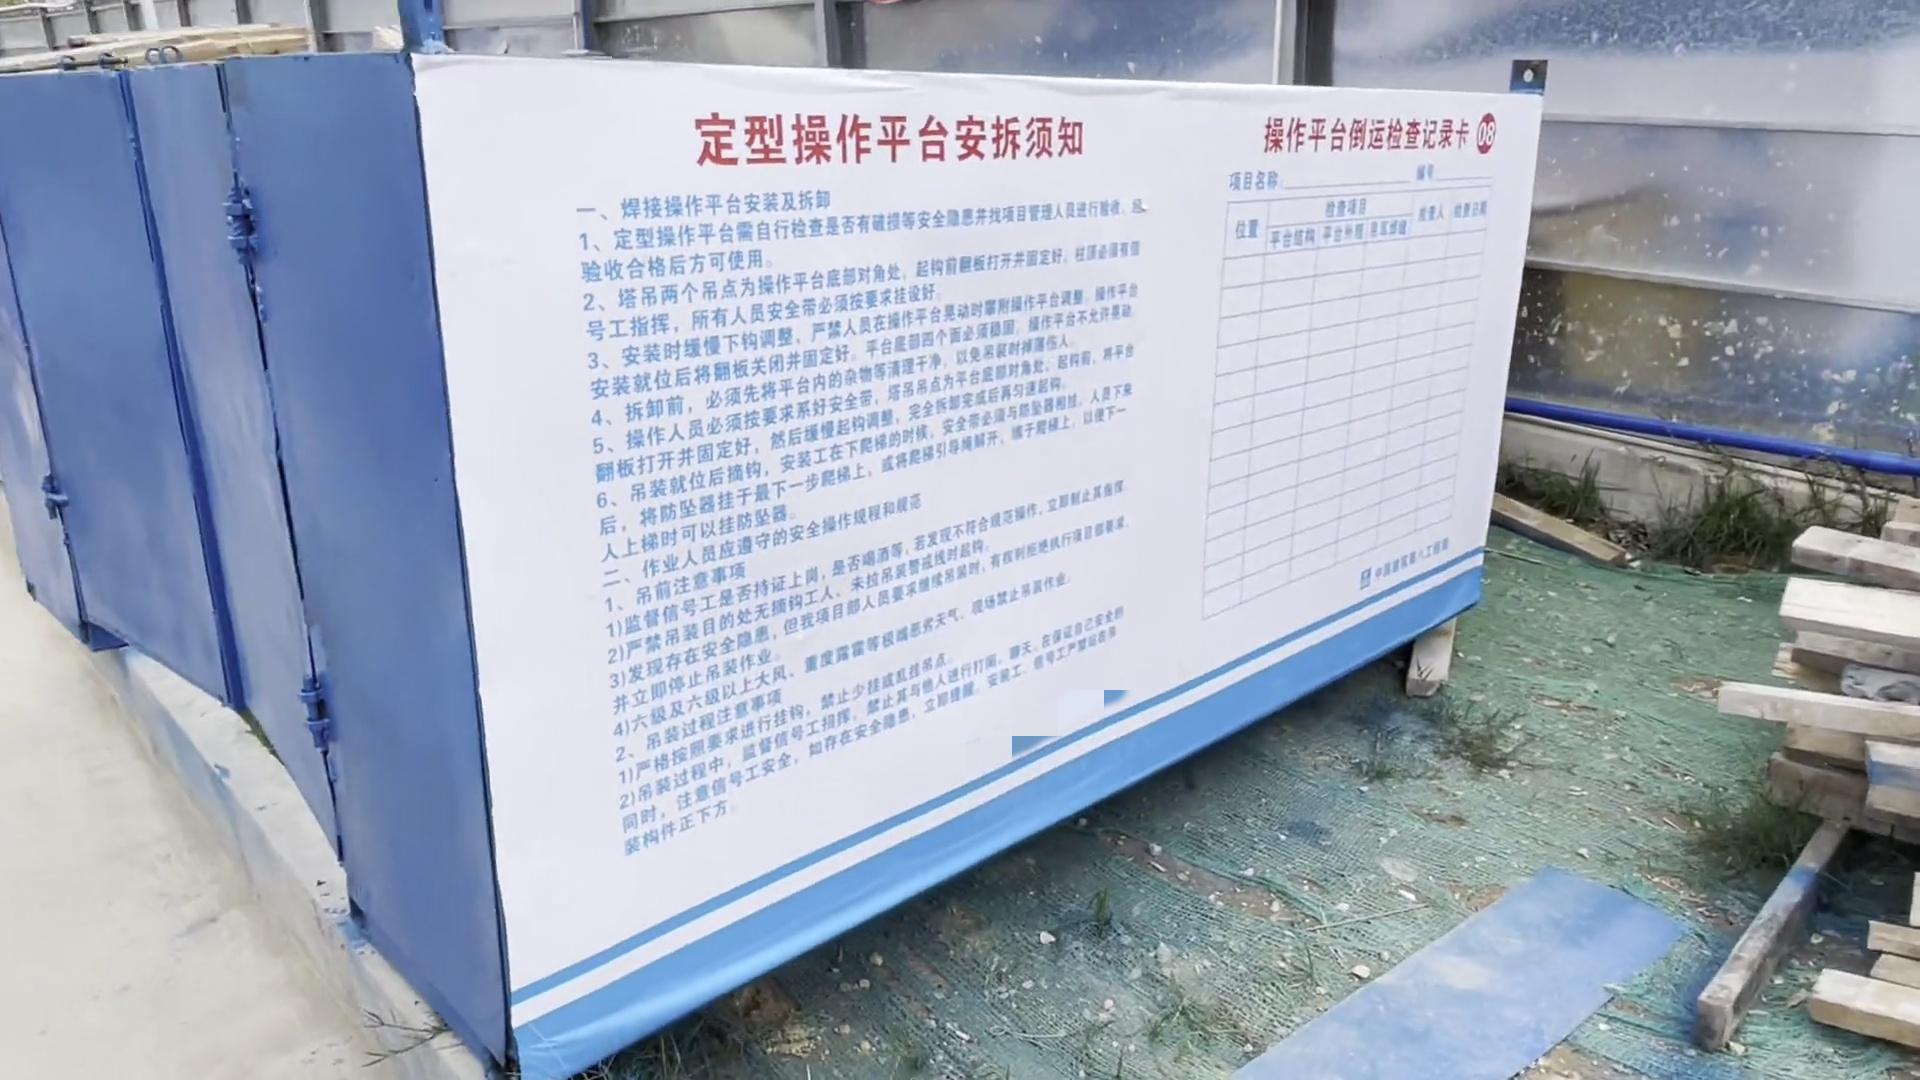wood: (1751, 452, 1920, 1062)
